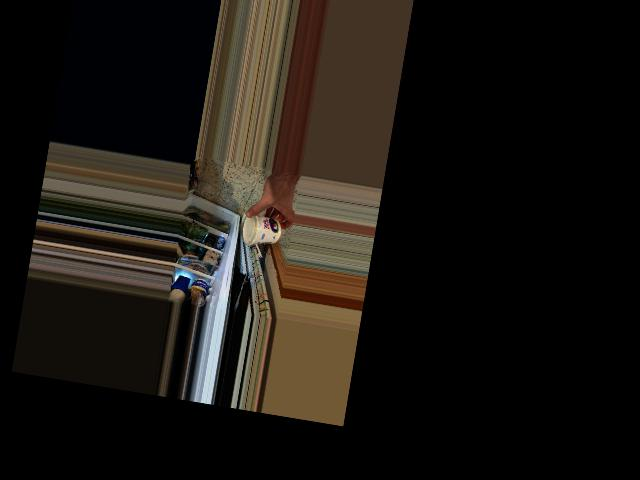cotage: (240, 214, 285, 249)
